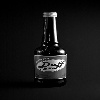beer: (29, 10, 70, 92)
